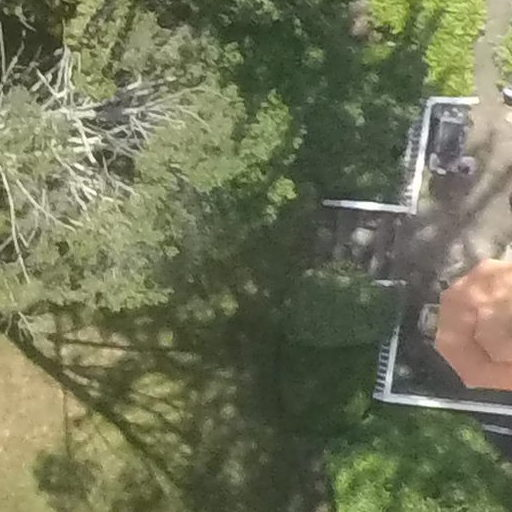porch: (355, 56, 512, 443)
umbrella: (421, 228, 512, 403)
